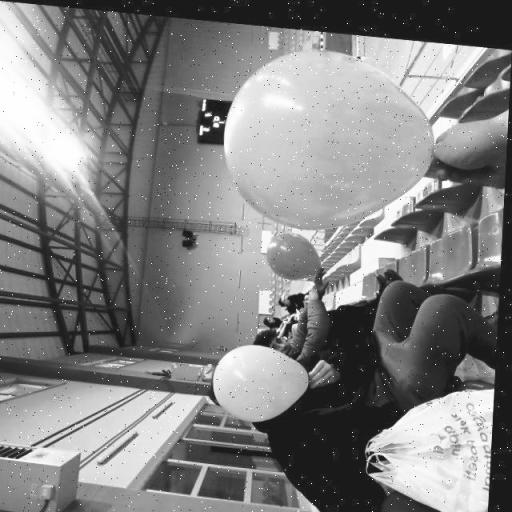balloon: (220, 35, 440, 234), (218, 332, 312, 422), (268, 224, 330, 277)
